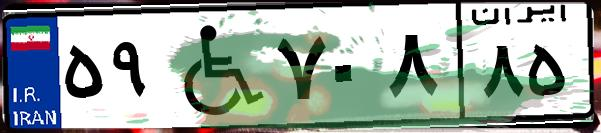0: (330, 28, 385, 110)
5: (57, 26, 110, 100), (525, 38, 570, 115)
7: (270, 28, 330, 110)
8: (385, 28, 445, 110), (475, 38, 525, 113)
9: (110, 28, 158, 98)
ژ (معلولین و جانبازان): (158, 12, 270, 120)
